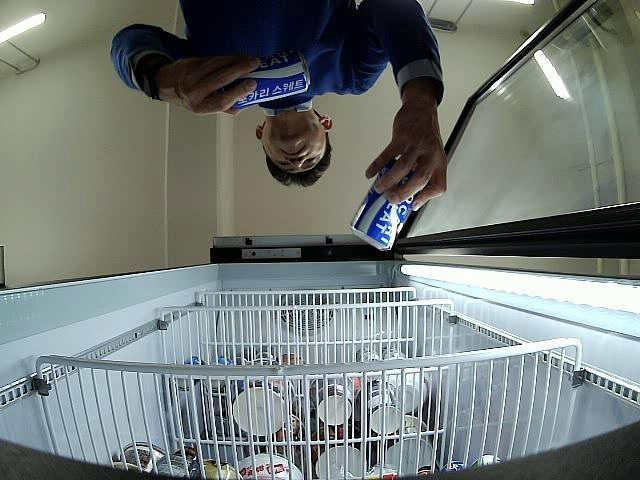13_pocariSweat: (350, 158, 418, 250), (221, 48, 311, 108)
